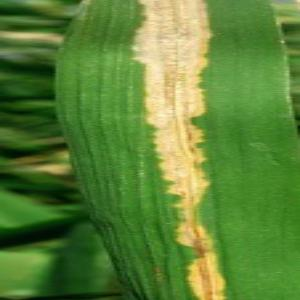Bacterial_Blight: (98, 2, 245, 299)
